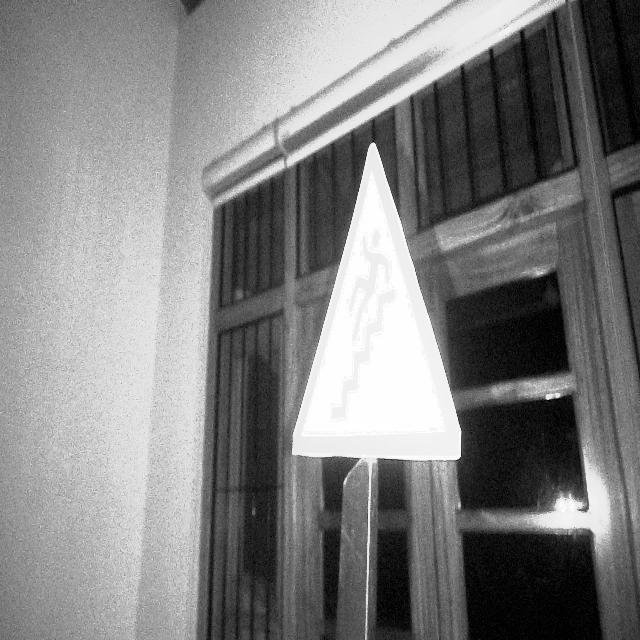Sign: (289, 139, 463, 463)
